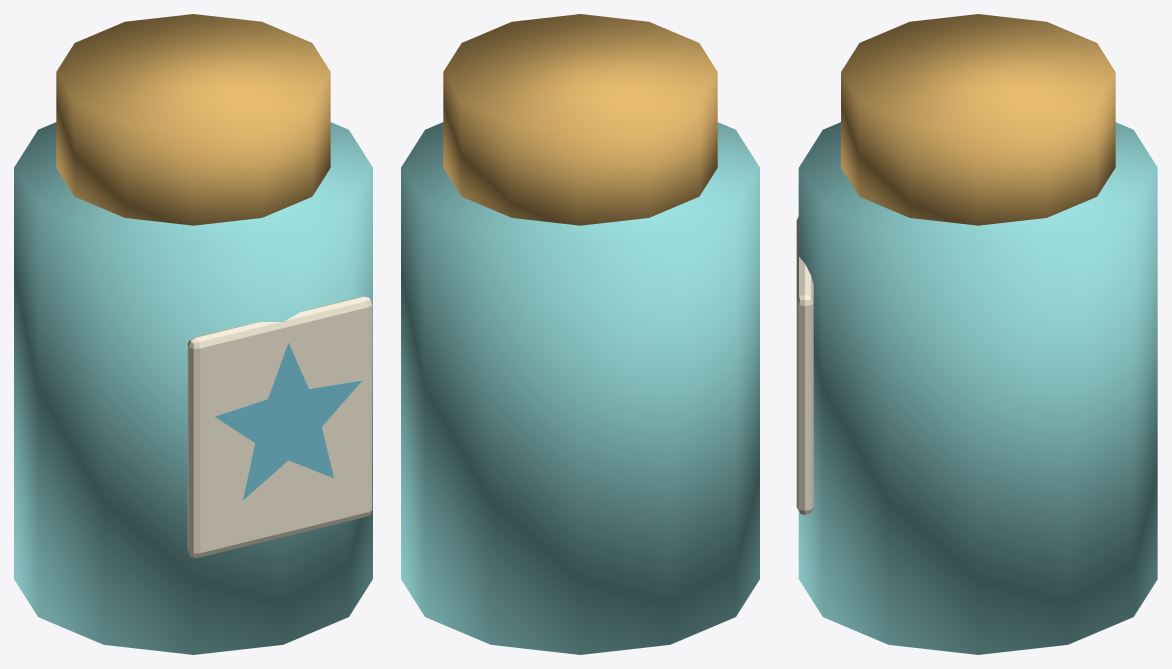
File: potion.glb
3 renders of one model, left to right at view 1: azimuth 30°, elevation 25°; view 2: azimuth 150°, elevation 25°; view 3: azimuth 270°, elevation 25°, orthographic.
Parts seen in each view (by area): view 1: Restorative potion; view 2: Restorative potion; view 3: Restorative potion.
Part boxes in pixels (x1,y1,x2,y2): Restorative potion: [14, 14, 372, 654]; Restorative potion: [401, 14, 759, 654]; Restorative potion: [796, 14, 1157, 654].
Size of the model in its own units: 0.34 by 0.53 by 0.35.
